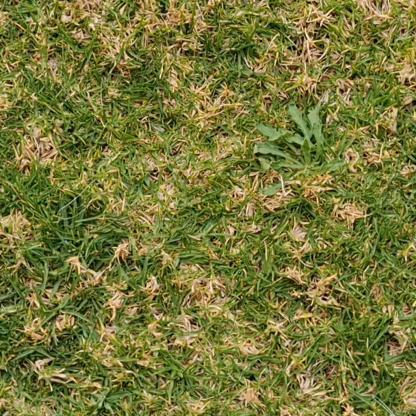Weeds: (253, 103, 345, 197)
